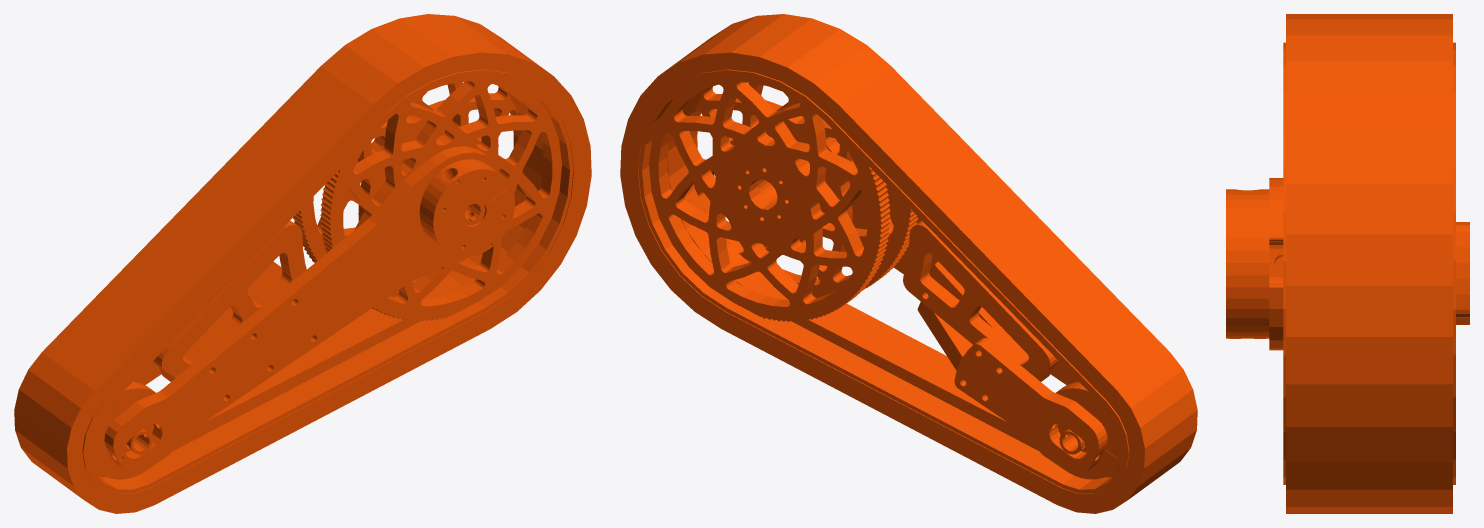
File: front-right.dae
3 renders of one model, left to right at view 1: azimuth 30°, elevation 25°; view 2: azimuth 150°, elevation 25°; view 3: azimuth 270°, elevation 25°, orthographic. The views are drawn at different scales.
Visible parts, largest first — view 1: Flipper-front-right; view 2: Flipper-front-right; view 3: Flipper-front-right.
Part boxes in pixels (<box>): Flipper-front-right: <box>14,14,591,513</box>; Flipper-front-right: <box>620,14,1197,513</box>; Flipper-front-right: <box>1226,14,1469,513</box>.
Bounding box in the file's own units: 16.66 × 4.23 × 11.47.
